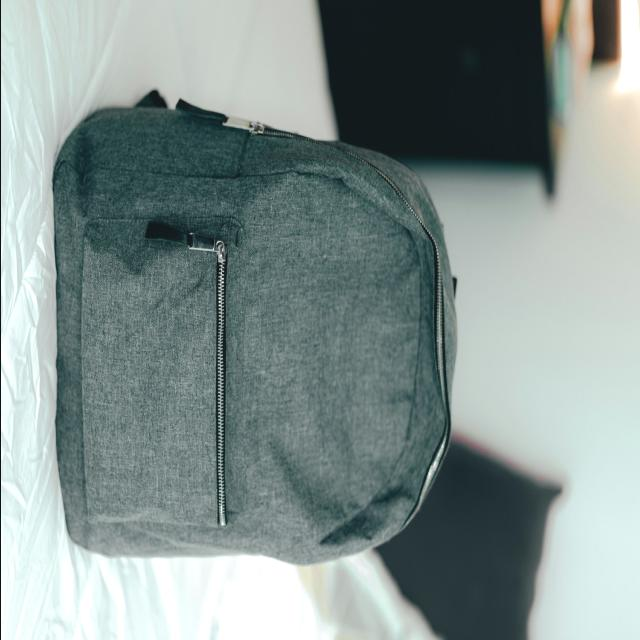backpack: (53, 92, 459, 568)
